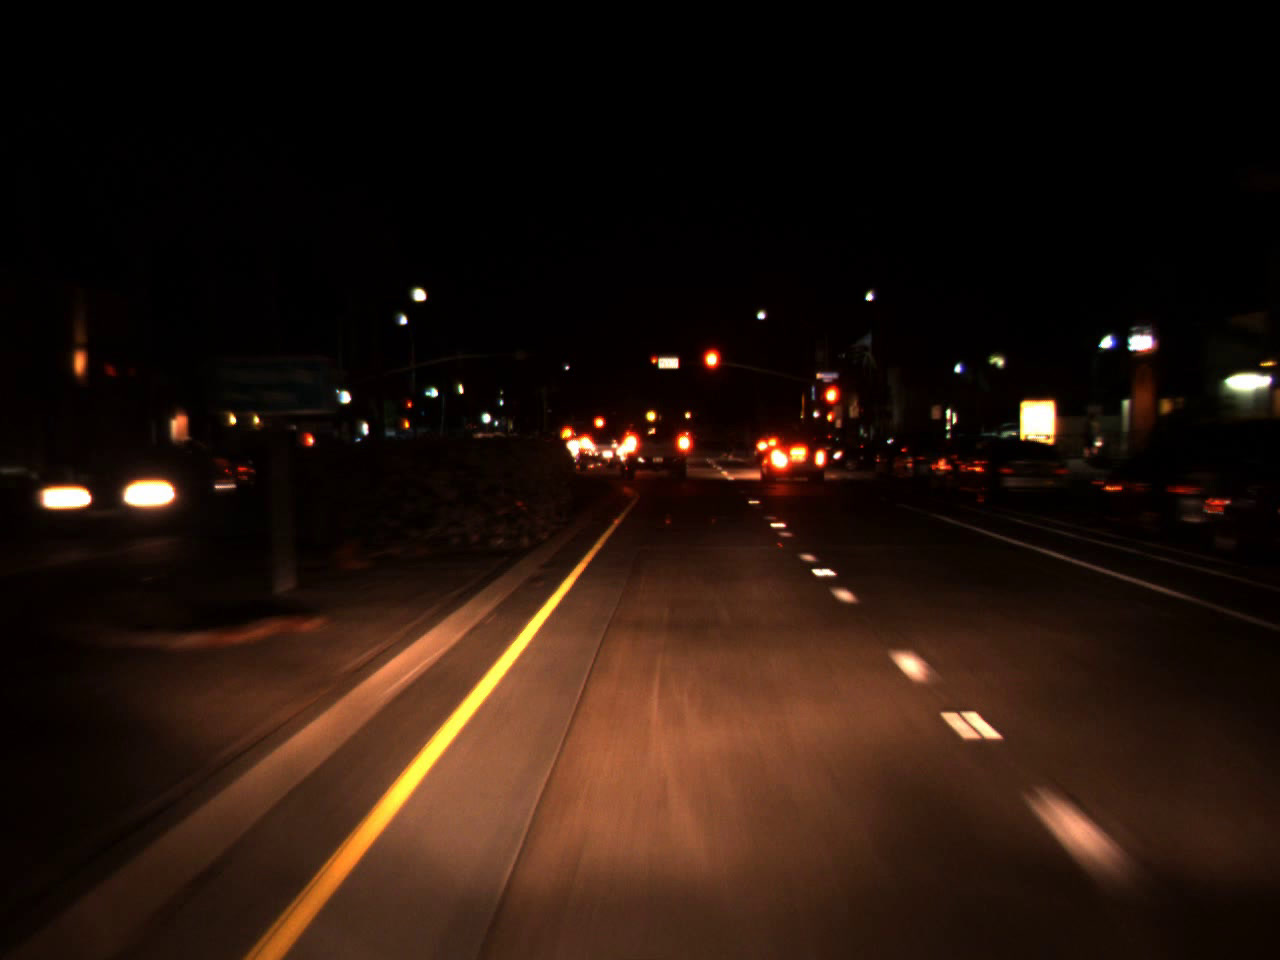stop: (701, 345, 723, 393), (820, 381, 842, 429), (650, 356, 657, 369), (406, 400, 412, 413)
